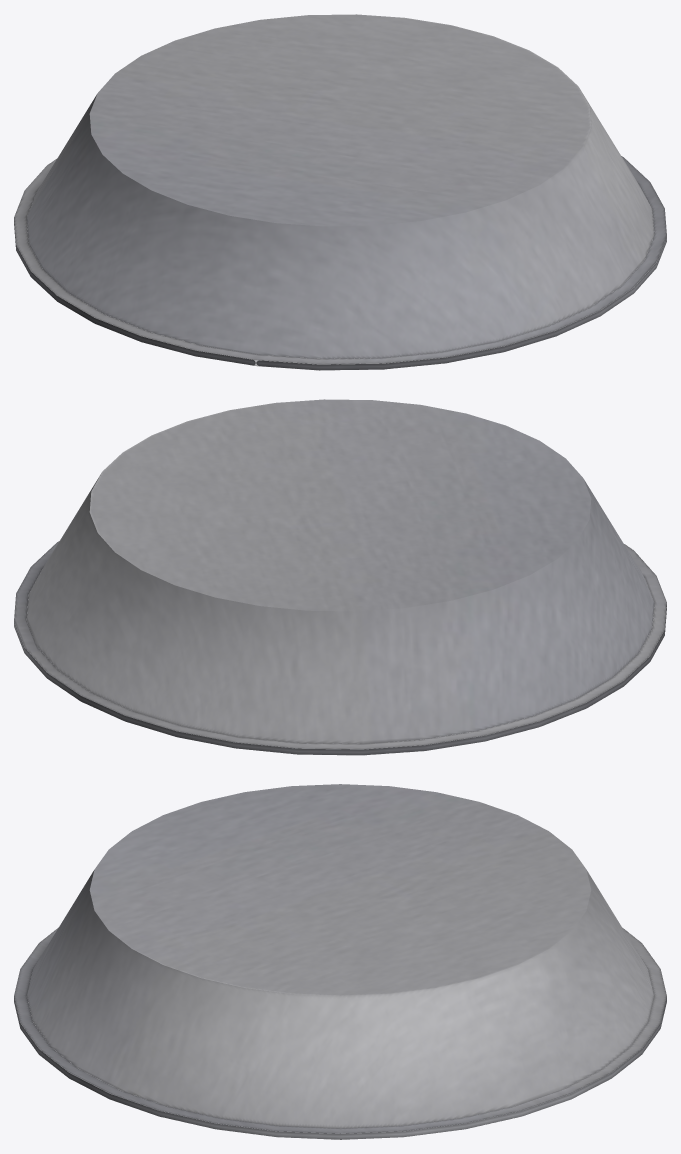
Rendered from xiaofangpentou.FBX.
3 views of the same model, one above another, from view 1: azimuth 30°, elevation 25°; view 2: azimuth 150°, elevation 25°; view 3: azimuth 270°, elevation 25° (orthographic).
Parts seen in each view (by area): view 1: xiaofangpentou_body; view 2: xiaofangpentou_body; view 3: xiaofangpentou_body.
Boxes of the visible parts, x1=… form: xiaofangpentou_body: x1=14, y1=14, x2=666, y2=370; xiaofangpentou_body: x1=14, y1=399, x2=666, y2=755; xiaofangpentou_body: x1=14, y1=784, x2=666, y2=1139.
Size of the model in its own units: 9.82 by 2.9 by 9.82.
